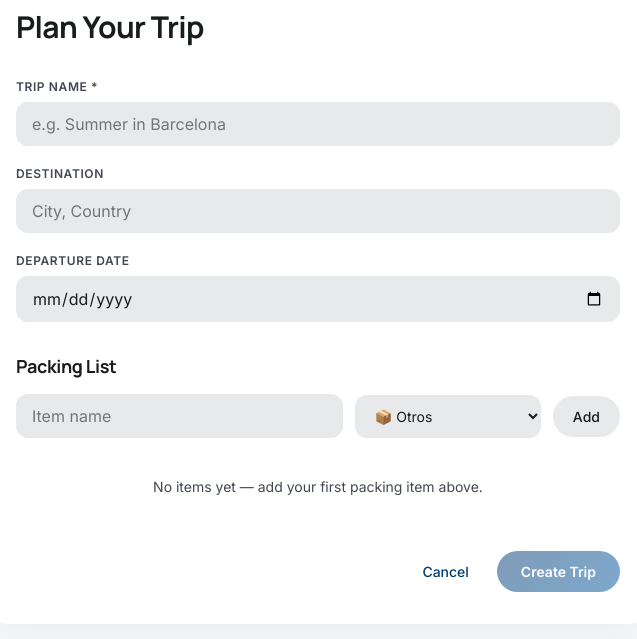
TripForm › removes item on click
Type "Item" into the field with test id "new-item-name-input" at [179, 416], box [16,394,343,438]
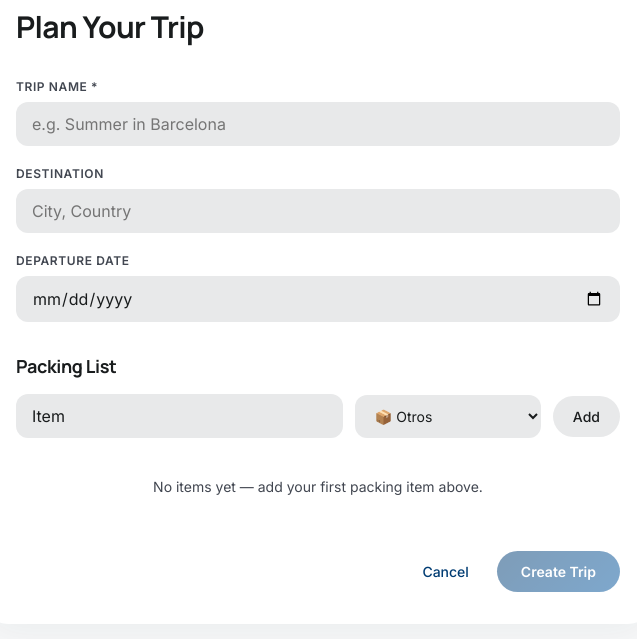
Click the button with test id "add-item-button" at [586, 416], box [553,396,620,437]
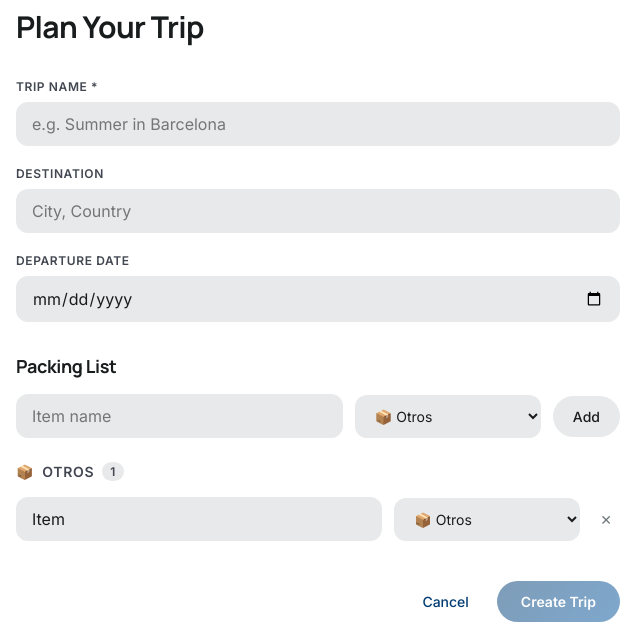
Click the button with test id "remove-item-0" at [606, 519], box [592,507,620,532]
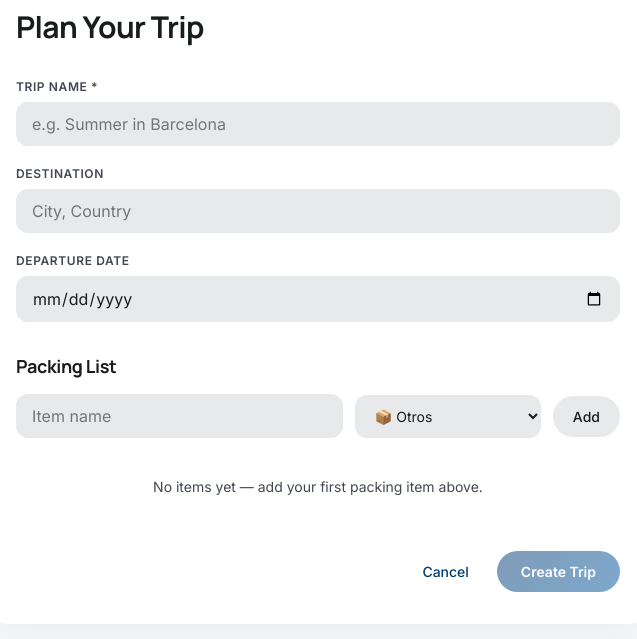
expect the field with test id "item-input-0" is gone: met
